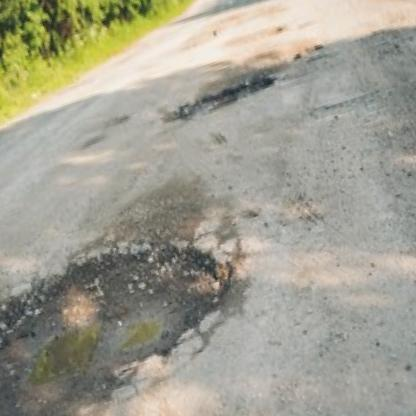pothole: (0, 216, 238, 416), (161, 70, 280, 130)
